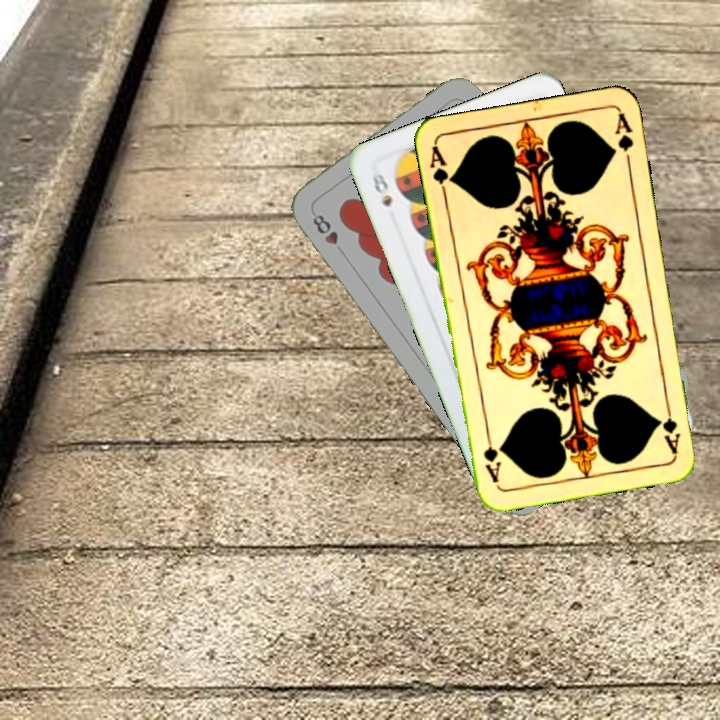GA: (426, 142, 456, 201), (659, 397, 683, 456)
H8: (308, 210, 348, 259)
S8: (368, 169, 395, 210)
